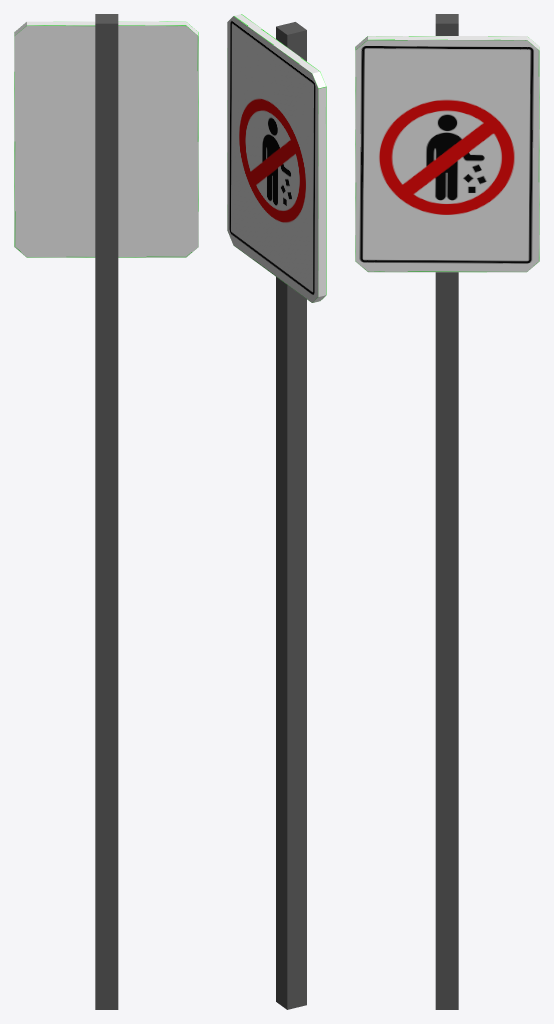
The model's file is signLitter.fbx.
3 renders of one model, left to right at view 1: azimuth 90°, elevation 25°; view 2: azimuth 210°, elevation 25°; view 3: azimuth 270°, elevation 25°, orthographic.
Visible parts, largest first — view 1: sign; view 2: sign; view 3: sign.
Boxes of the visible parts, x1=… form: sign: x1=14, y1=14, x2=198, y2=1009; sign: x1=227, y1=14, x2=326, y2=1009; sign: x1=355, y1=14, x2=539, y2=1009.
Bounding box in the file's own units: 3.07 × 16.92 × 100.
2 materials, 1 textured.
